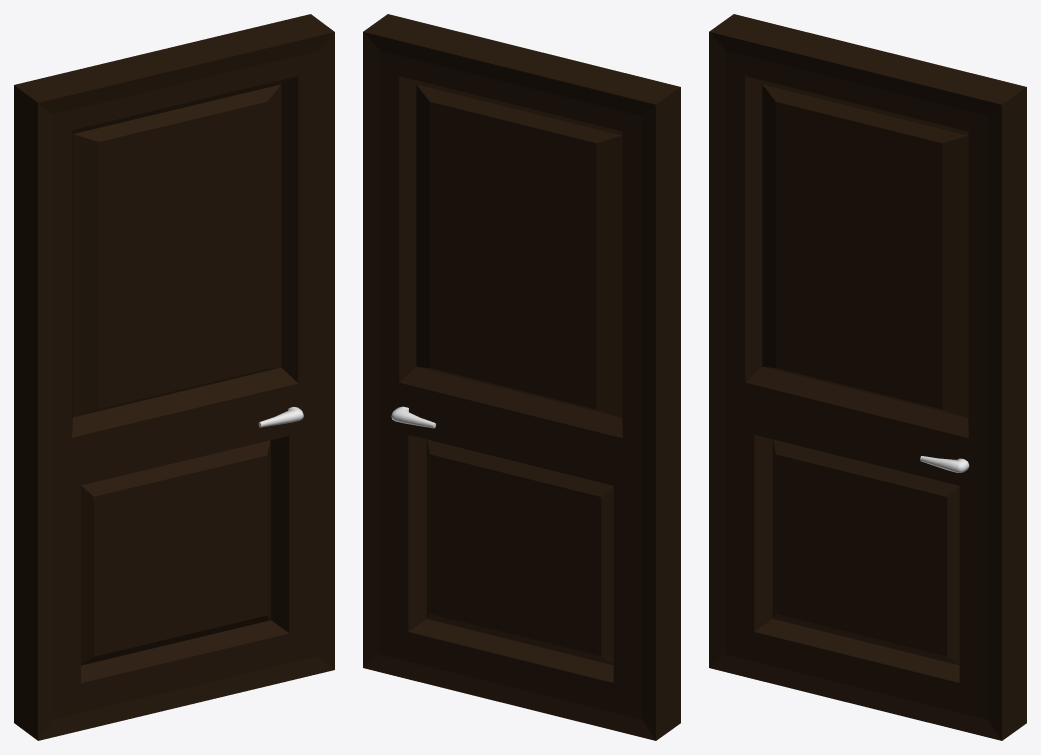
File: door 1.fbx
The picture shows the model from 3 angles, left to right: view 1: azimuth 30°, elevation 25°; view 2: azimuth 150°, elevation 25°; view 3: azimuth 330°, elevation 25°; orthographic projection.
Visible parts, largest first — view 1: Cube.009; view 2: Cube.009; view 3: Cube.009.
Boxes of the visible parts, bbox=[...] form: Cube.009: bbox=[14, 14, 334, 740]; Cube.009: bbox=[363, 14, 680, 740]; Cube.009: bbox=[709, 14, 1026, 740].
Bounding box in the file's own units: 510 × 1051 × 115.
